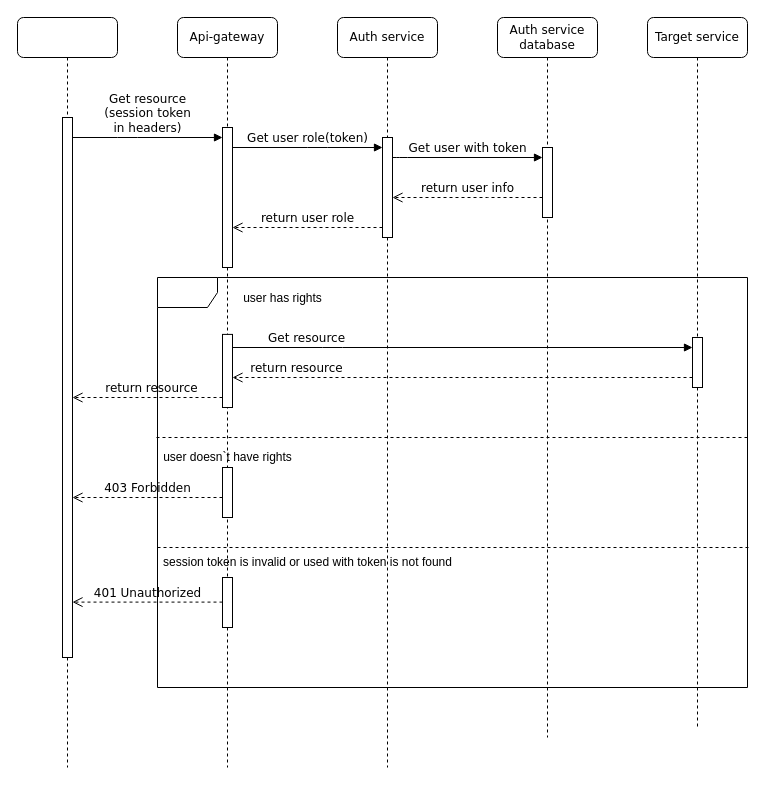
The diagram is 767 pixels wide and 785 high, and some of its shapes have lost their labels. Here are the shapes that lost their labels. From the top down, the box of each, then its label:
(16, 16, 118, 768): React app
(156, 276, 748, 688): alt
